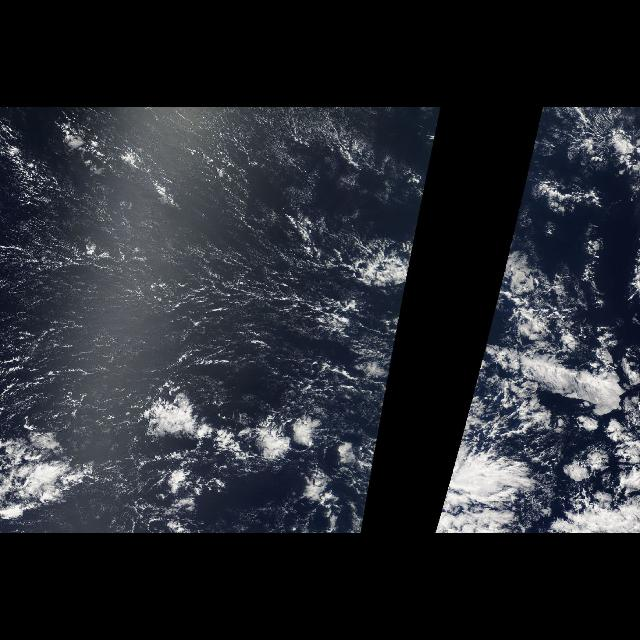Flower: (148, 245, 414, 533), (434, 245, 640, 533)
Sugar: (1, 109, 383, 432)
